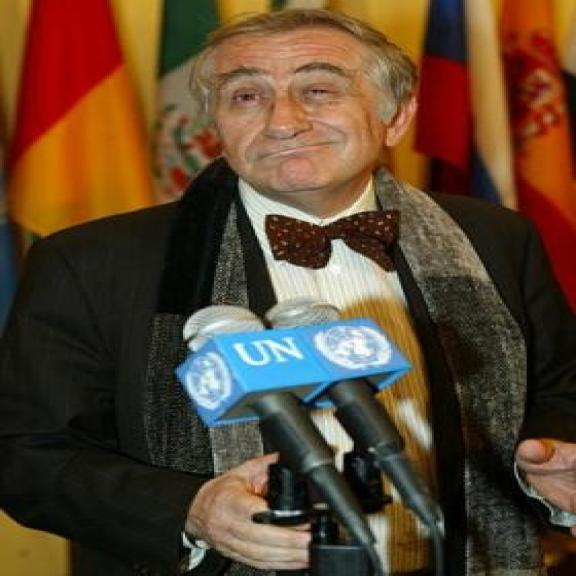face: (212, 36, 426, 195)
